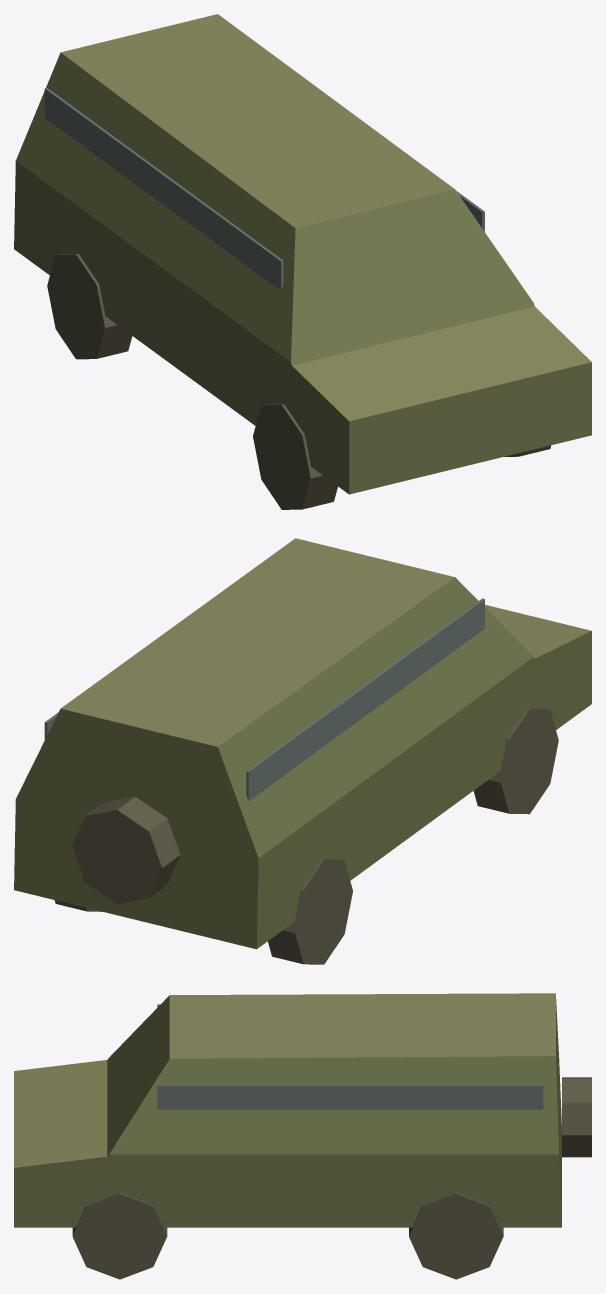
Rendered from SM_CocheCivil_Todoterreno_v0_LOD1.fbx.
The picture shows the model from 3 angles, top to bottom: view 1: azimuth 30°, elevation 25°; view 2: azimuth 150°, elevation 25°; view 3: azimuth 270°, elevation 25°; orthographic projection. The views are drawn at different scales.
Visible parts, largest first — view 1: SM_coche_civil_v15_LOD1; view 2: SM_coche_civil_v15_LOD1; view 3: SM_coche_civil_v15_LOD1.
Boxes of the visible parts, x1,y1,x2,y2 form: SM_coche_civil_v15_LOD1: (14, 14, 591, 509); SM_coche_civil_v15_LOD1: (14, 538, 591, 964); SM_coche_civil_v15_LOD1: (14, 993, 591, 1279).
Size of the model in its own units: 1.88 by 1.82 by 4.64.
